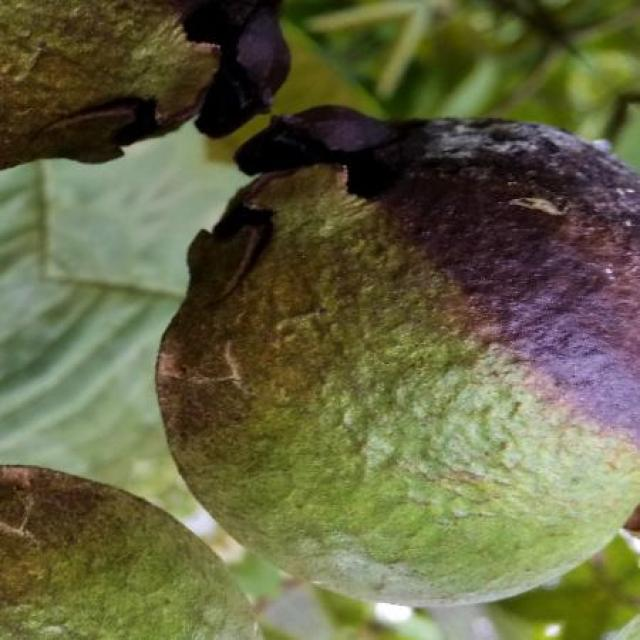Styler and Root: (158, 106, 640, 603), (0, 0, 290, 168), (0, 466, 261, 640)
